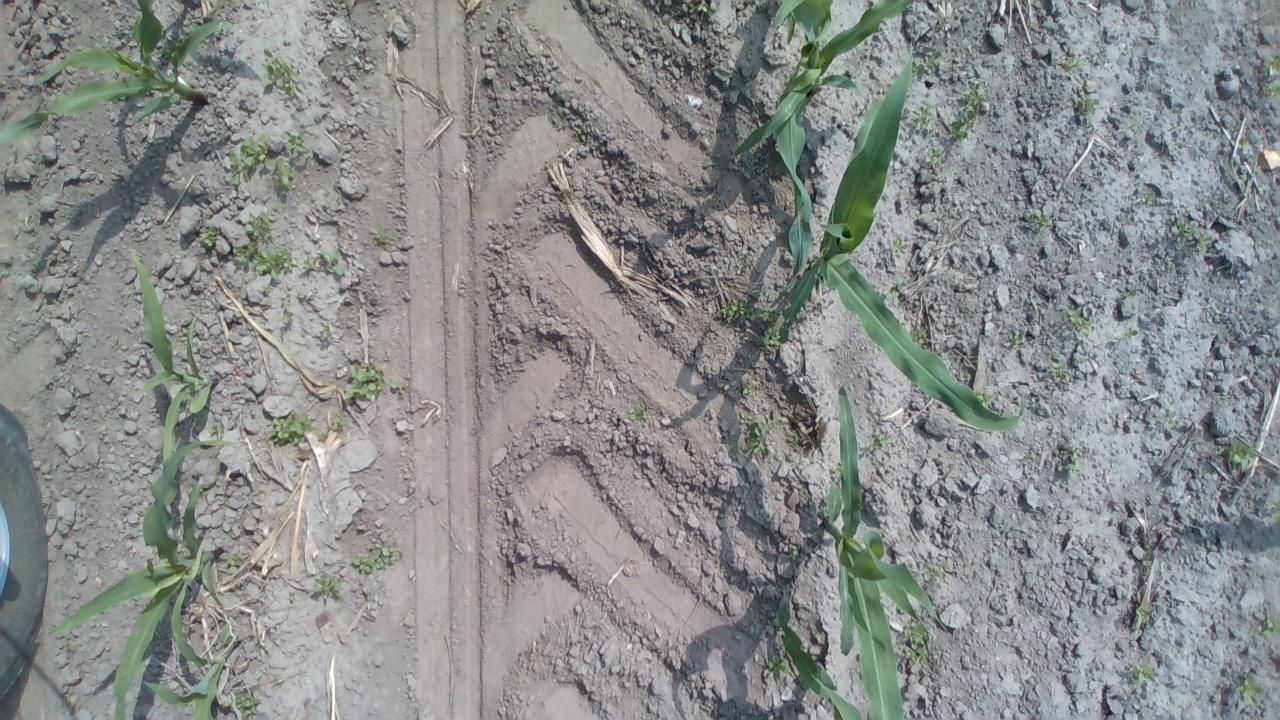Maize: (775, 50, 1021, 430), (35, 435, 240, 720), (819, 383, 950, 720), (0, 0, 237, 146), (730, 0, 924, 160), (130, 243, 223, 507), (142, 572, 244, 720), (774, 591, 869, 720)
Weeds: (224, 132, 272, 184), (257, 46, 301, 100), (338, 360, 389, 405), (950, 82, 986, 143), (713, 292, 779, 323), (300, 244, 349, 278), (742, 409, 774, 460), (271, 408, 313, 446), (253, 244, 295, 280), (352, 544, 398, 576), (903, 618, 930, 668), (746, 322, 788, 352), (280, 127, 314, 162), (311, 573, 348, 603), (242, 211, 271, 248), (1238, 670, 1264, 710), (270, 155, 296, 194), (1229, 437, 1259, 470), (230, 690, 263, 720), (1064, 302, 1094, 334), (1132, 593, 1158, 628), (764, 652, 794, 682), (1252, 610, 1280, 642), (1070, 90, 1102, 116), (1263, 56, 1280, 104), (734, 375, 760, 406), (1118, 326, 1149, 352), (1062, 442, 1086, 475), (920, 560, 946, 590), (226, 241, 256, 266), (276, 292, 296, 329), (1128, 658, 1156, 684), (866, 429, 895, 454), (1058, 54, 1090, 76), (1030, 207, 1056, 234), (324, 408, 351, 434), (224, 549, 249, 576), (913, 100, 934, 132), (370, 227, 402, 248), (926, 145, 947, 173), (198, 221, 220, 247), (888, 233, 910, 257), (1174, 214, 1196, 238), (973, 388, 995, 412), (1138, 187, 1160, 209), (629, 406, 650, 427), (1052, 362, 1072, 384), (1193, 232, 1212, 255), (1116, 288, 1140, 304), (575, 124, 594, 144), (910, 327, 931, 345), (1161, 411, 1180, 430), (1006, 328, 1028, 344), (1267, 500, 1280, 526), (688, 2, 712, 15), (321, 328, 336, 348), (256, 284, 274, 300), (208, 421, 224, 438)
